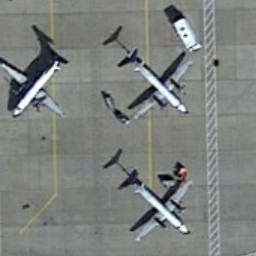Airplane: (102, 39, 200, 129), (118, 156, 199, 252), (1, 32, 76, 125)
